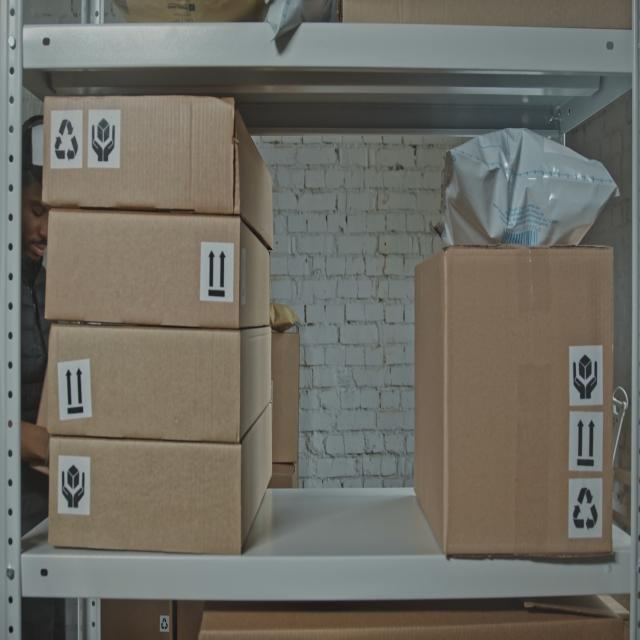counting-the-number-of-boxes: (413, 246, 613, 555), (42, 95, 273, 251), (48, 401, 273, 555), (47, 324, 273, 444), (45, 209, 270, 328), (272, 331, 300, 464), (267, 463, 298, 488)
